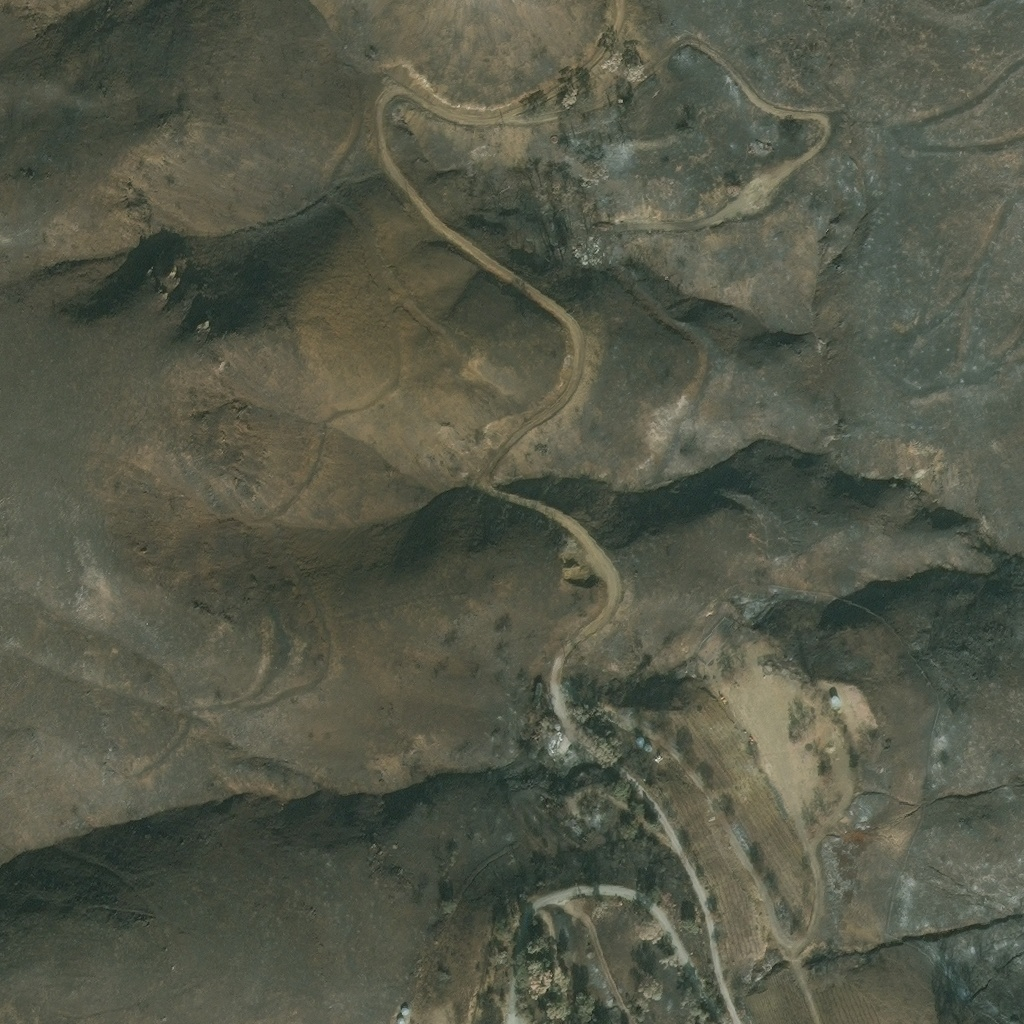0 no-damage: (634, 737, 644, 748), (399, 1007, 409, 1018), (653, 754, 663, 764), (642, 743, 651, 754), (830, 696, 839, 705)
3 destroyed: (549, 730, 561, 751), (569, 819, 583, 836), (752, 139, 769, 151), (533, 683, 541, 706), (674, 669, 686, 680), (565, 746, 574, 758), (558, 758, 565, 766)
